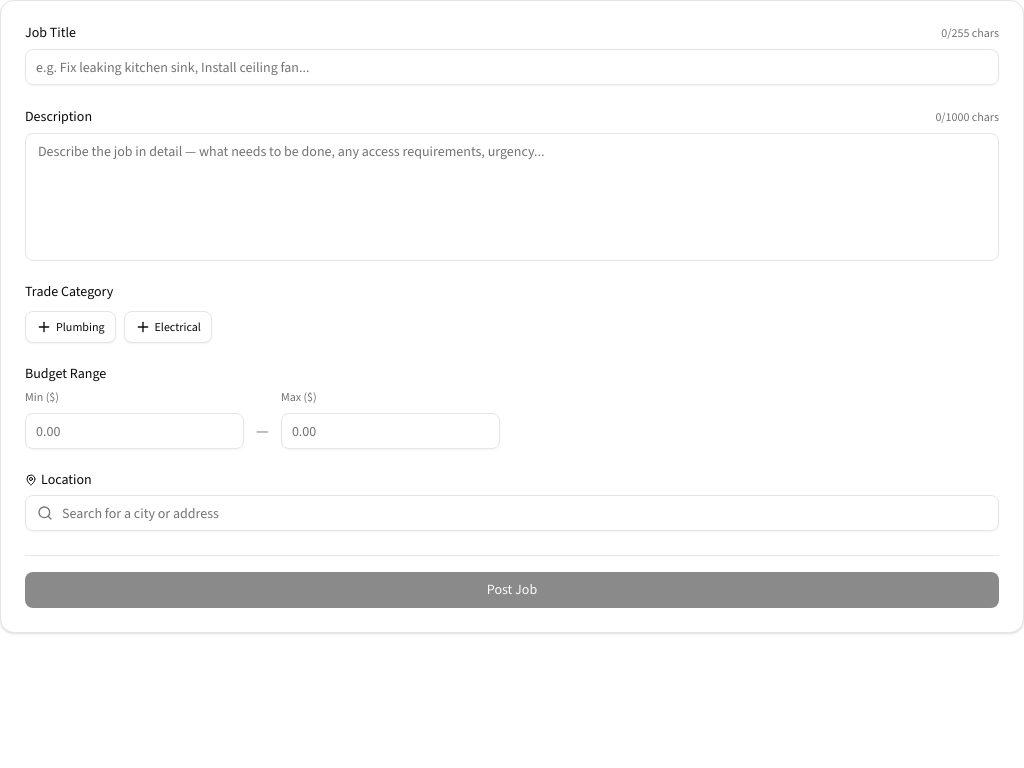
Test: JobCreateForm › location field › shows suggestions when user types in location field
In the dropdown: [512, 513] box [25,495,999,531], type "New York"
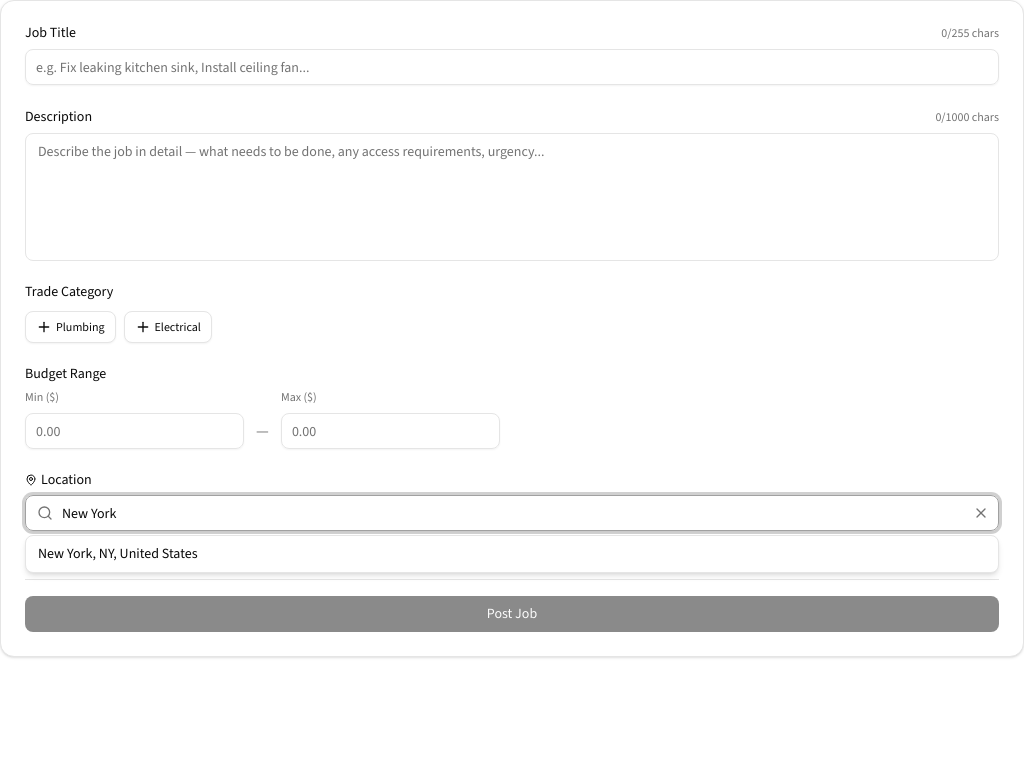
Now the list is shown, box [25,535,999,573]
Now the option "New York, NY, United States" is shown, box [26,536,998,572]
